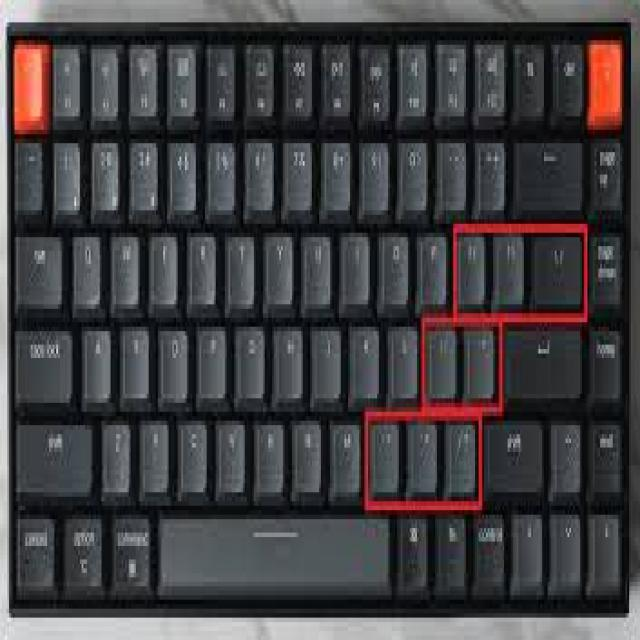others: (2, 5, 634, 613)
